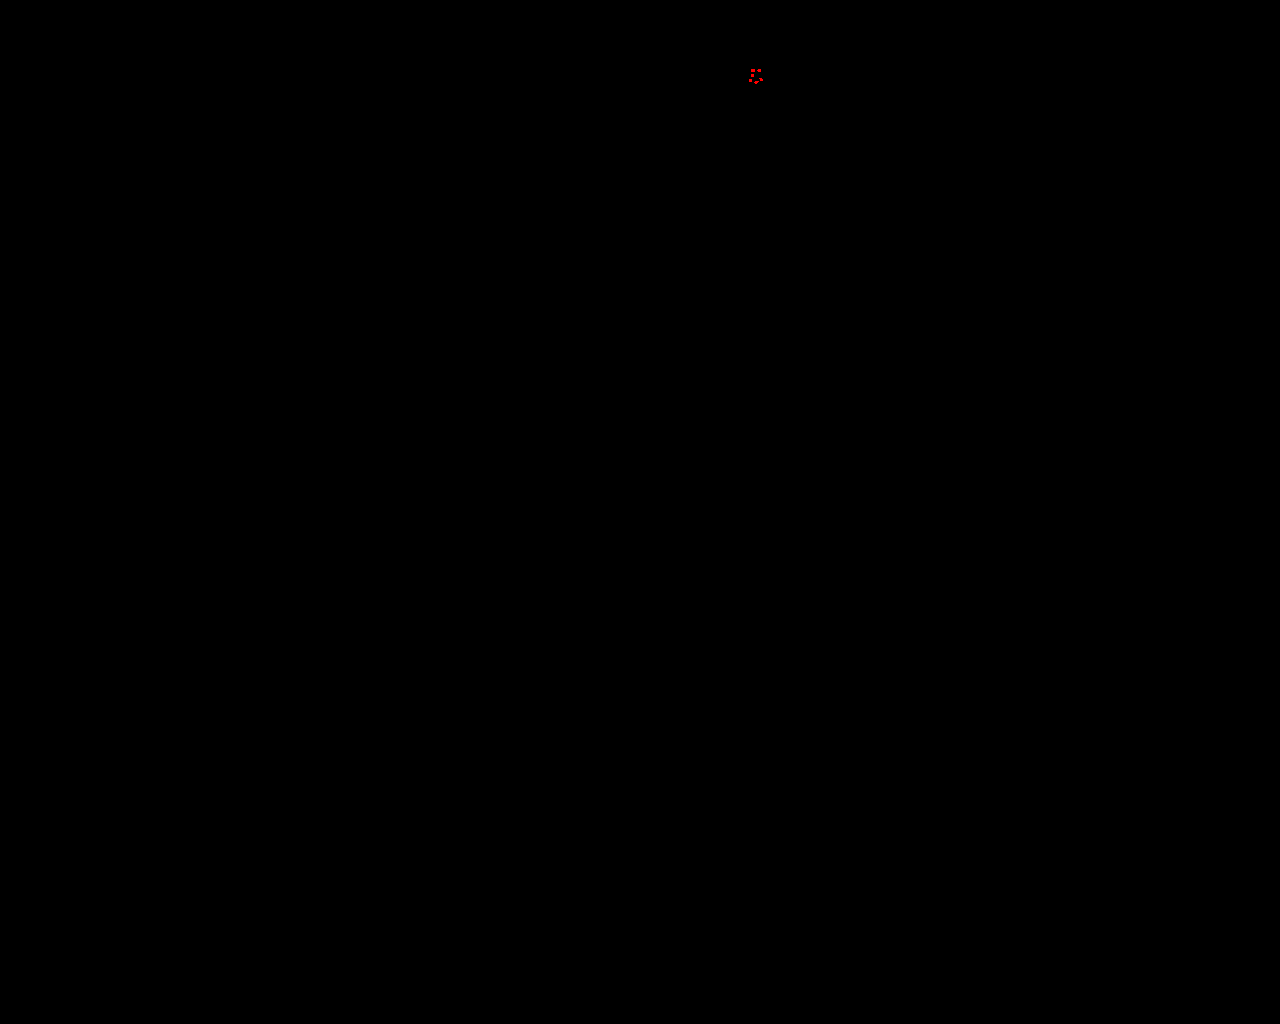Target: (751, 69, 755, 72), (757, 69, 761, 72), (759, 78, 763, 82), (751, 74, 754, 77), (754, 82, 759, 84), (749, 79, 752, 82)
